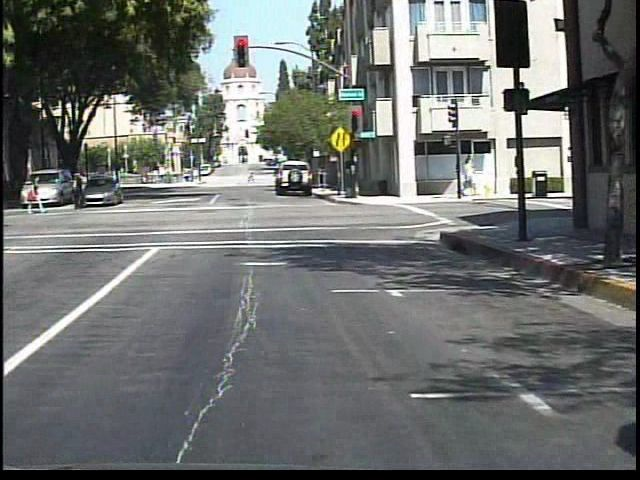person: (65, 169, 87, 213), (22, 176, 44, 217), (247, 169, 255, 186)
